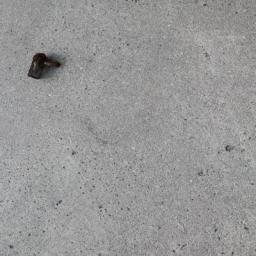FOD: (24, 51, 66, 83)
